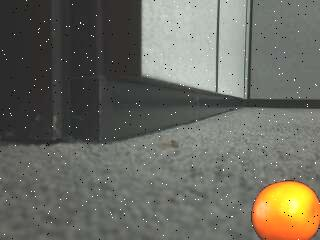Orange: (251, 180, 320, 240)
